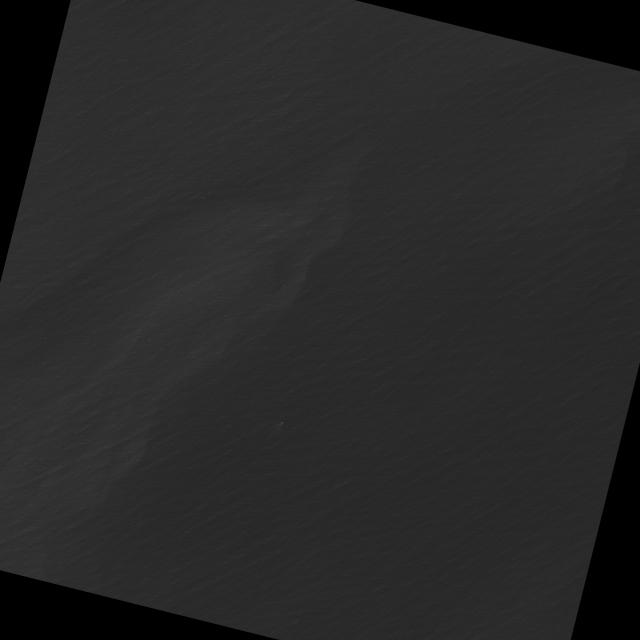ship: (280, 420, 284, 423)
